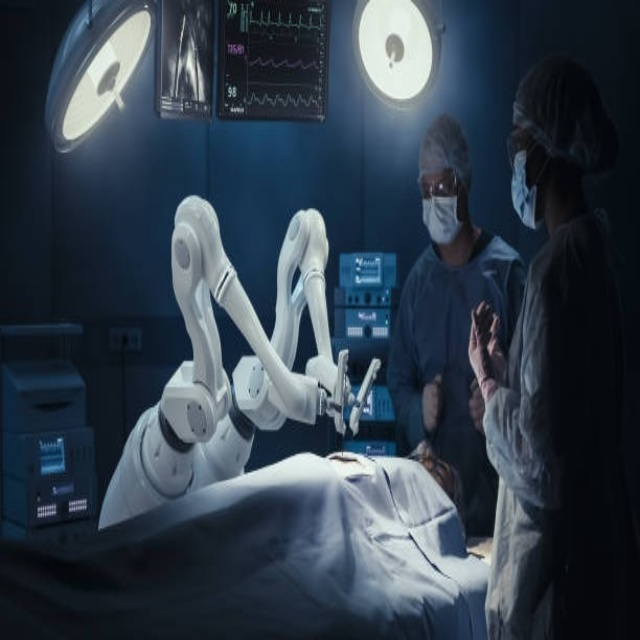Gafas: (416, 167, 460, 201), (504, 123, 535, 169)
Guantes: (464, 294, 504, 393), (417, 368, 449, 432)
Mascara: (510, 148, 543, 231), (421, 181, 463, 245)
